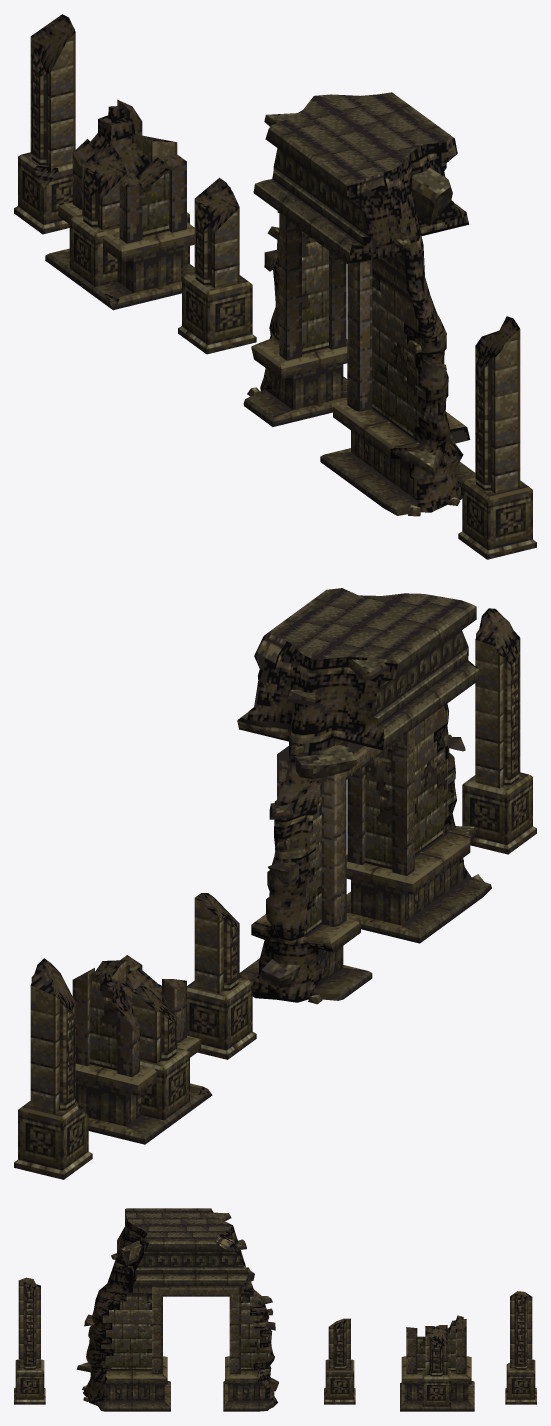
Rendered from EnvMdrMD_Ruins_C_Debris_Pillar_C.FBX.
3 renders of one model, top to bottom at view 1: azimuth 30°, elevation 25°; view 2: azimuth 150°, elevation 25°; view 3: azimuth 270°, elevation 25°, orthographic. The views are drawn at different scales.
Visible parts, largest first — view 1: EnvMdrMD_Ruins_C_Debris_Wall_F, EnvMdrMD_Ruins_C_Debris_Wall_E, EnvMdrMD_Ruins_C_Debris_Pillar_E, EnvMdrMD_Ruins_C_Debris_Pillar_D, EnvMdrMD_Ruins_C_Debris_Pillar_C; view 2: EnvMdrMD_Ruins_C_Debris_Wall_F, EnvMdrMD_Ruins_C_Debris_Wall_E, EnvMdrMD_Ruins_C_Debris_Pillar_E, EnvMdrMD_Ruins_C_Debris_Pillar_D, EnvMdrMD_Ruins_C_Debris_Pillar_C; view 3: EnvMdrMD_Ruins_C_Debris_Wall_F, EnvMdrMD_Ruins_C_Debris_Wall_E, EnvMdrMD_Ruins_C_Debris_Pillar_E, EnvMdrMD_Ruins_C_Debris_Pillar_D, EnvMdrMD_Ruins_C_Debris_Pillar_C.
Part boxes in pixels (x1,y1,x2,y2): EnvMdrMD_Ruins_C_Debris_Wall_F: (243,92,475,516); EnvMdrMD_Ruins_C_Debris_Wall_E: (45,99,194,310); EnvMdrMD_Ruins_C_Debris_Pillar_E: (458,316,536,559); EnvMdrMD_Ruins_C_Debris_Pillar_D: (14,14,75,234); EnvMdrMD_Ruins_C_Debris_Pillar_C: (178,177,256,354); EnvMdrMD_Ruins_C_Debris_Wall_F: (237,588,491,1004); EnvMdrMD_Ruins_C_Debris_Wall_E: (72,955,212,1144); EnvMdrMD_Ruins_C_Debris_Pillar_E: (462,608,536,854); EnvMdrMD_Ruins_C_Debris_Pillar_D: (14,958,92,1179); EnvMdrMD_Ruins_C_Debris_Pillar_C: (187,893,256,1059); EnvMdrMD_Ruins_C_Debris_Wall_F: (76,1208,278,1411); EnvMdrMD_Ruins_C_Debris_Wall_E: (400,1315,474,1411); EnvMdrMD_Ruins_C_Debris_Pillar_E: (14,1277,45,1404); EnvMdrMD_Ruins_C_Debris_Pillar_D: (505,1291,536,1404); EnvMdrMD_Ruins_C_Debris_Pillar_C: (324,1318,355,1404).
Bounding box in the file's own units: 260 × 600 × 1645.
Materials: 1 (1 with a texture image).
